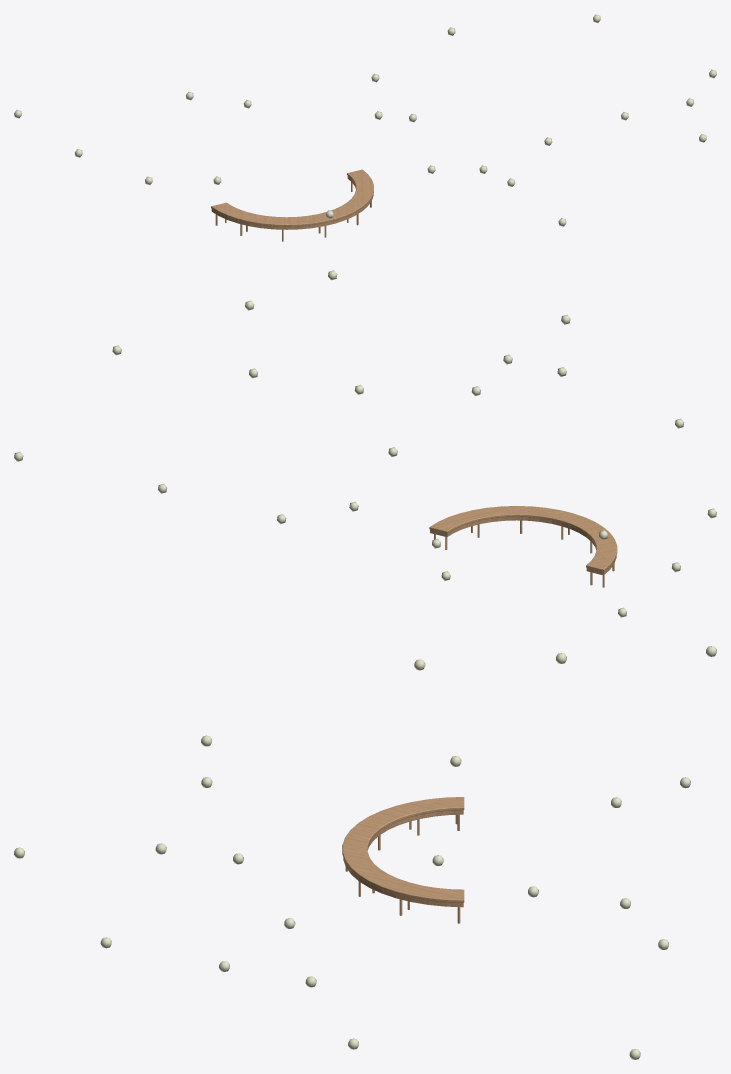
File: 园书桌.fbx
3 renders of one model, top to bottom at view 1: azimuth 30°, elevation 25°; view 2: azimuth 150°, elevation 25°; view 3: azimuth 270°, elevation 25°, orthographic. The views are drawn at different scales.
Parts seen in each view (by area): view 1: Group005; view 2: Group005; view 3: Group005.
Boxes of the visible parts, x1=… form: Group005: x1=211, y1=169, x2=373, y2=241; Group005: x1=429, y1=506, x2=617, y2=587; Group005: x1=342, y1=797, x2=464, y2=923.
Size of the model in its own units: 861 by 135 by 654.
